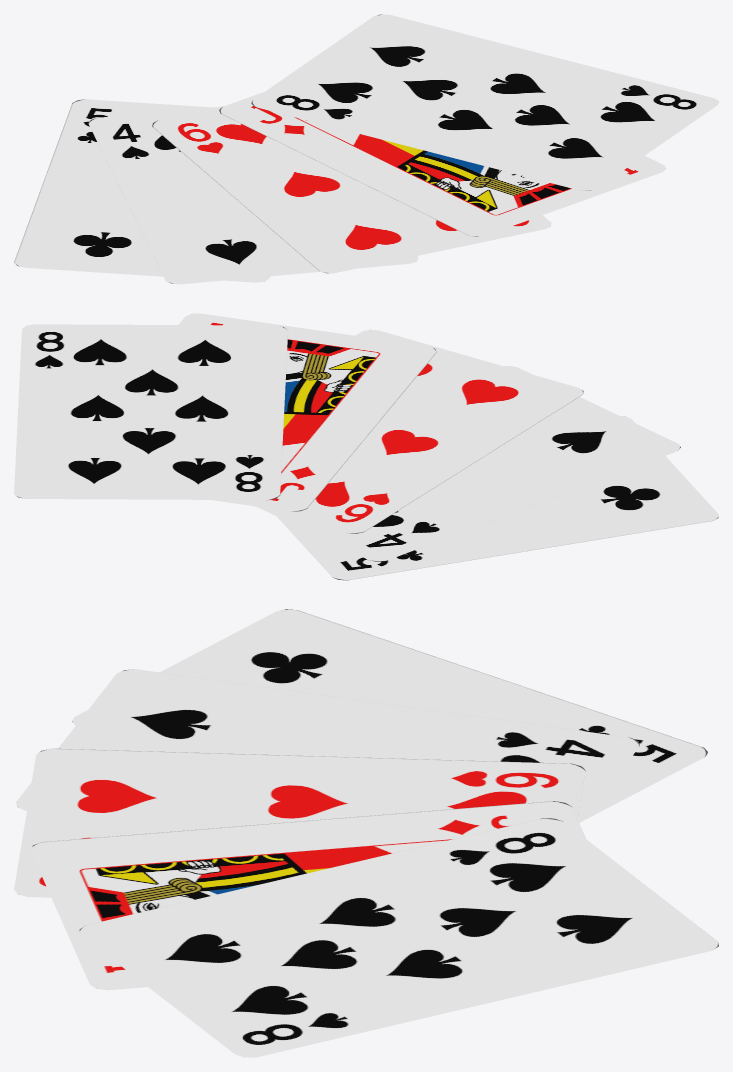
Rendered from 5cards_00.fbx.
The picture shows the model from 3 angles, top to bottom: view 1: azimuth 30°, elevation 25°; view 2: azimuth 150°, elevation 25°; view 3: azimuth 270°, elevation 25°; orthographic projection. The views are drawn at different scales.
Parts seen in each view (by area): view 1: Card; view 2: Card; view 3: Card.
Part boxes in pixels (bbox=[...]): Card: bbox=[14, 14, 718, 284]; Card: bbox=[14, 313, 718, 580]; Card: bbox=[14, 609, 718, 1057].
Bounding box in the file's own units: 17.48 × 0.227 × 11.35.
